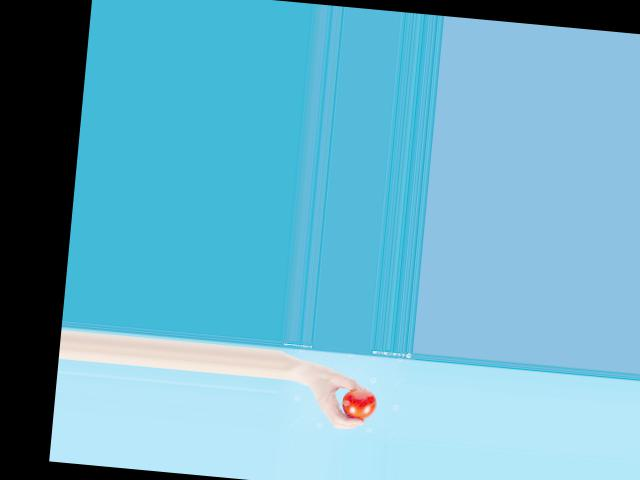tomato: (340, 388, 377, 420)
